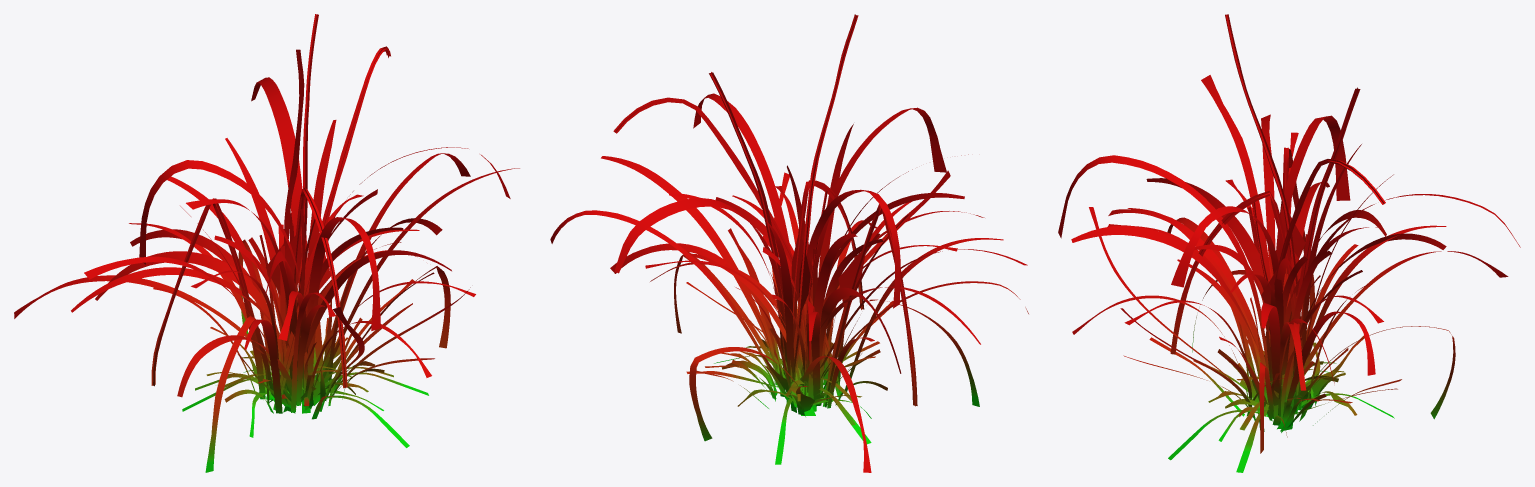
The model's file is tdcnfcdr_Var1_LOD0.fbx.
The picture shows the model from 3 angles, left to right: view 1: azimuth 30°, elevation 25°; view 2: azimuth 150°, elevation 25°; view 3: azimuth 270°, elevation 25°; orthographic projection. The views are drawn at different scales.
Visible parts, largest first — view 1: _9e48_Var1_LOD0; view 2: _9e48_Var1_LOD0; view 3: _9e48_Var1_LOD0.
Boxes of the visible parts, x1=… form: _9e48_Var1_LOD0: x1=14, y1=14, x2=519, y2=472; _9e48_Var1_LOD0: x1=550, y1=14, x2=1028, y2=472; _9e48_Var1_LOD0: x1=1058, y1=14, x2=1520, y2=472.
Bounding box in the file's own units: 187 × 163 × 169.
